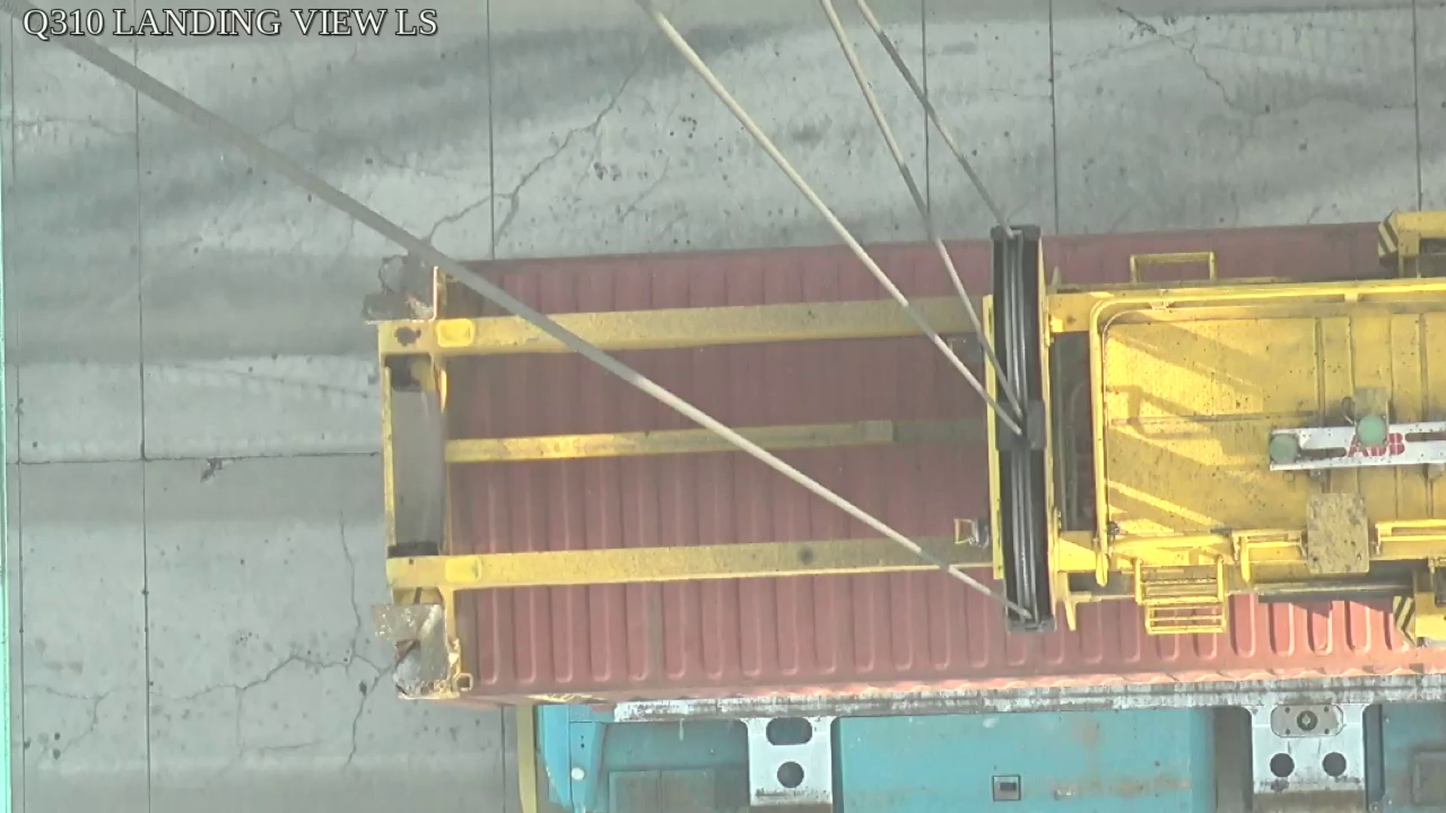aa: (983, 215, 1068, 634)
